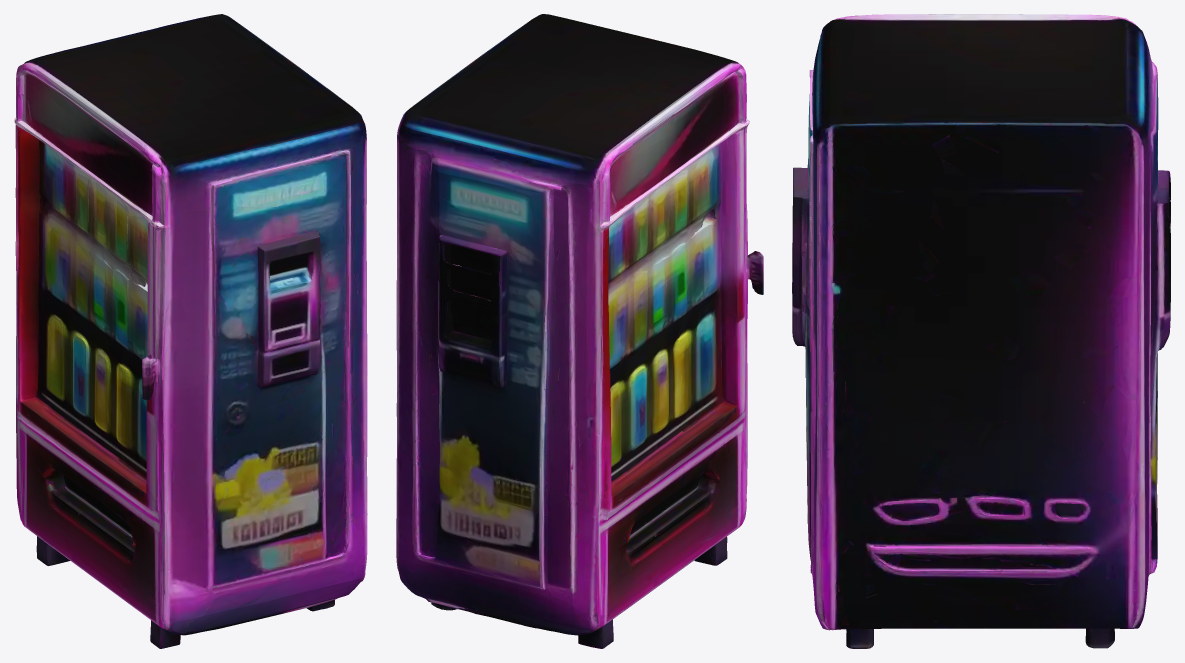
The model's file is prop_kurogane_vending.fbx.
3 views of the same model, side by side, from view 1: azimuth 30°, elevation 25°; view 2: azimuth 150°, elevation 25°; view 3: azimuth 270°, elevation 25° (orthographic). The views are drawn at different scales.
Parts seen in each view (by area): view 1: geometry_0; view 2: geometry_0; view 3: geometry_0.
Part boxes in pixels (x1,y1,x2,y2): geometry_0: (14,14,367,648); geometry_0: (396,14,763,648); geometry_0: (792,14,1170,648).
Size of the model in its own units: 0.469 by 0.9951 by 0.6338.
